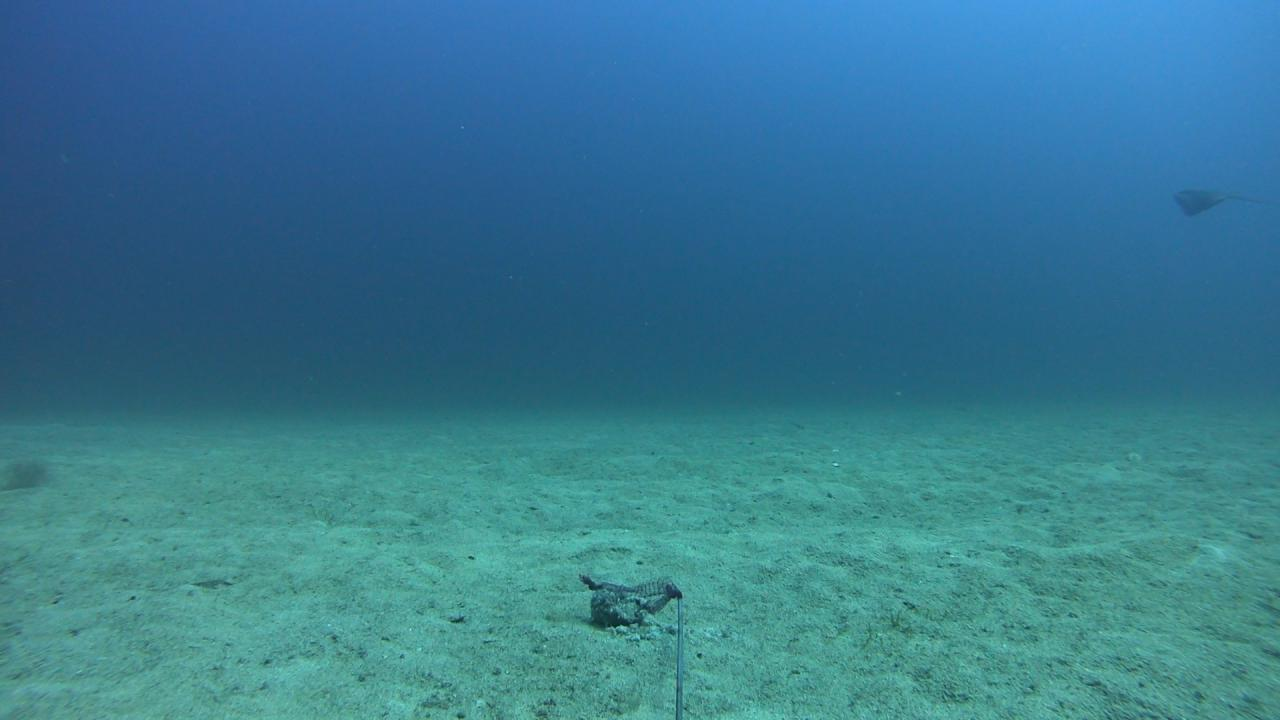dasyatis: (1169, 186, 1272, 216)
